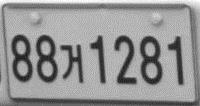1: (88, 34, 107, 84), (166, 34, 184, 86)
2: (113, 33, 137, 84)
8: (138, 34, 163, 85), (34, 34, 58, 82), (10, 33, 32, 82)
거: (59, 44, 84, 83)
